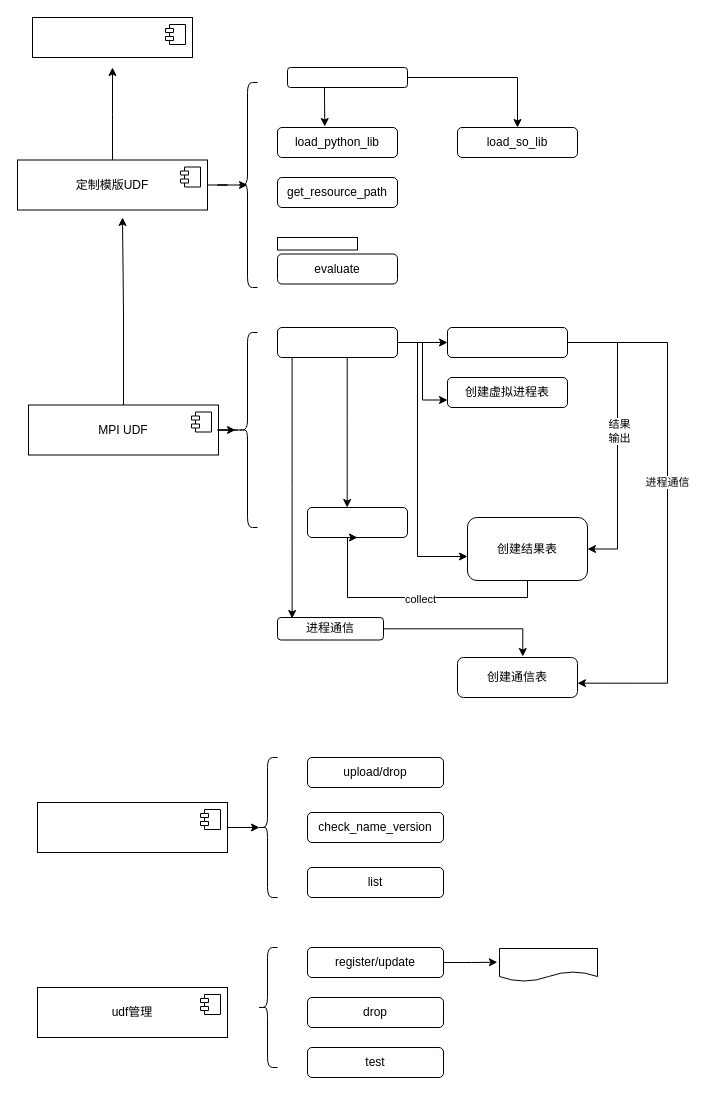
Some shapes in this 706 by 1095 pixel diagram are drawn without their labels. The shapes that lost their labels are listed below. From the top down, each one's centre as x and y in pixels, then its label:
At [112,37]: "标准UDF".
At [347,77]: "init".
At [317,243]: "main entry".
At [337,342]: "lauch".
At [507,342]: "设置并发度".
At [357,522]: "collect_result".
At [132,827]: "resource管理".
At [548,965]: "关联resource".
